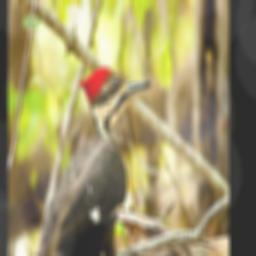Woodpecker: (29, 68, 153, 256)
